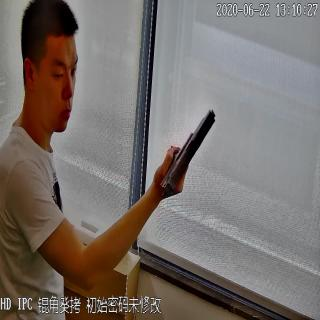gun: (160, 107, 216, 199)
